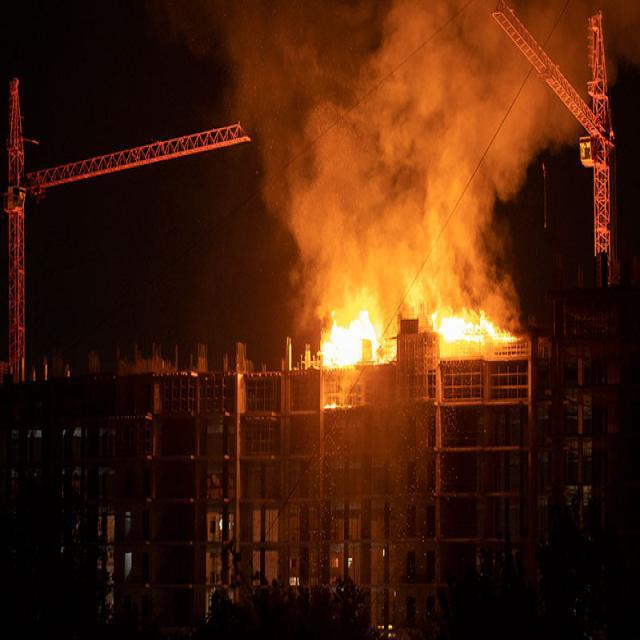Fire: (312, 310, 392, 378), (428, 302, 514, 362)
Smoke: (209, 3, 599, 310)
